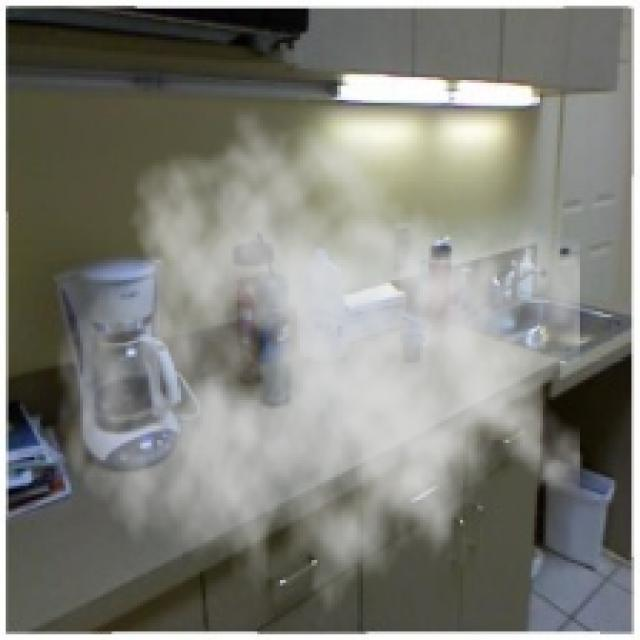smoke: (54, 106, 580, 637)
